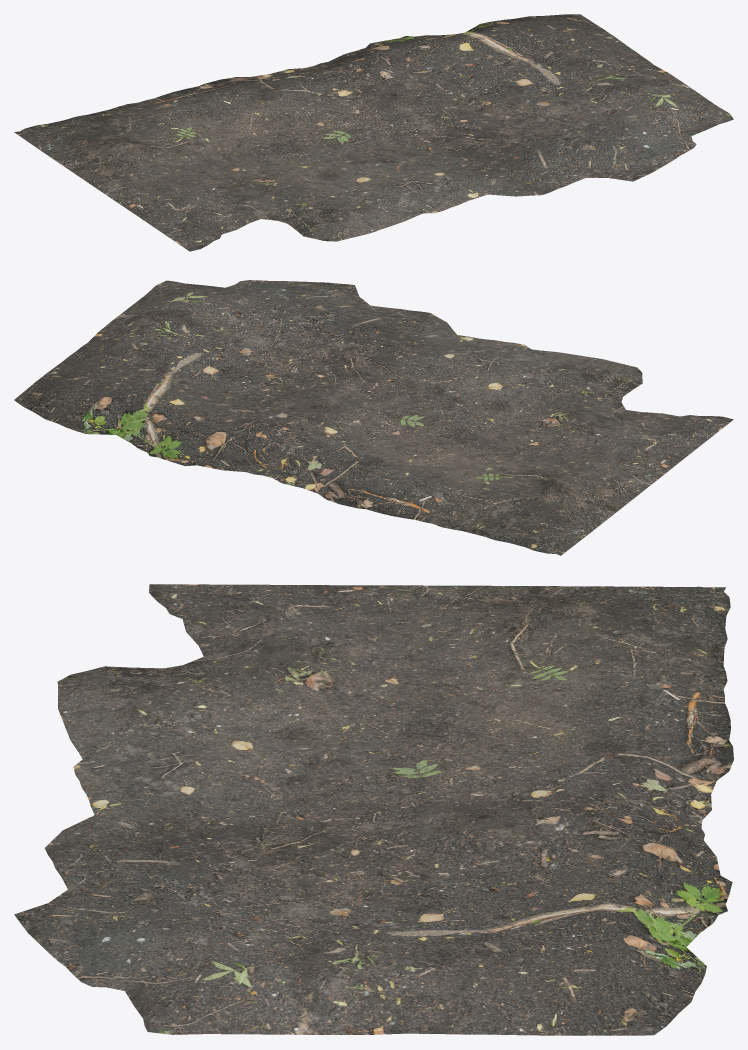
The model's file is sm_Ground_04_09.fbx.
The picture shows the model from 3 angles, top to bottom: view 1: azimuth 30°, elevation 25°; view 2: azimuth 150°, elevation 25°; view 3: azimuth 270°, elevation 25°; orthographic projection. The views are drawn at different scales.
Visible parts, largest first — view 1: sm_Ground_04_09_LOD0; view 2: sm_Ground_04_09_LOD0; view 3: sm_Ground_04_09_LOD0.
Part boxes in pixels (x1=…): sm_Ground_04_09_LOD0: x1=14, y1=14, x2=733, y2=251; sm_Ground_04_09_LOD0: x1=14, y1=280, x2=733, y2=555; sm_Ground_04_09_LOD0: x1=14, y1=584, x2=733, y2=1035.
Size of the model in its own units: 219 by 146 by 7.61.
